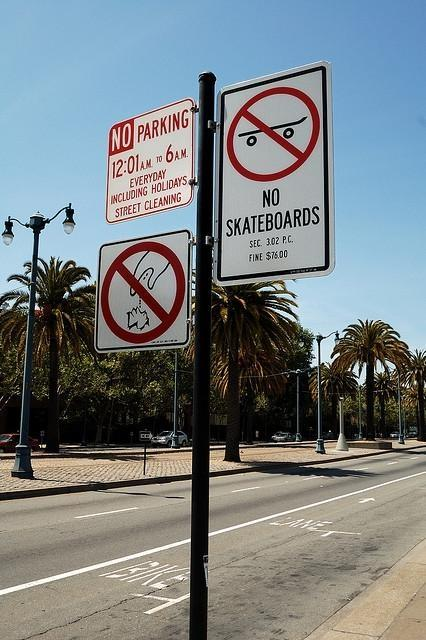car: (0, 432, 41, 453), (151, 431, 188, 448), (272, 432, 296, 442), (406, 431, 416, 438), (390, 431, 399, 438)
